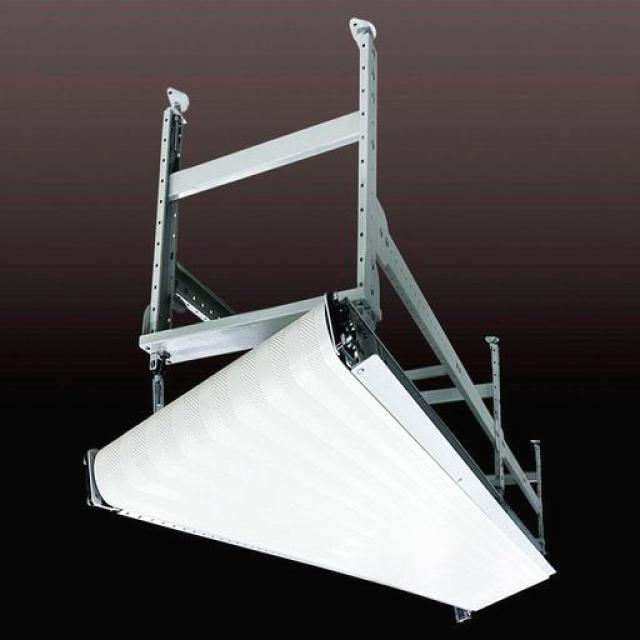conveyor: (87, 298, 557, 610)
